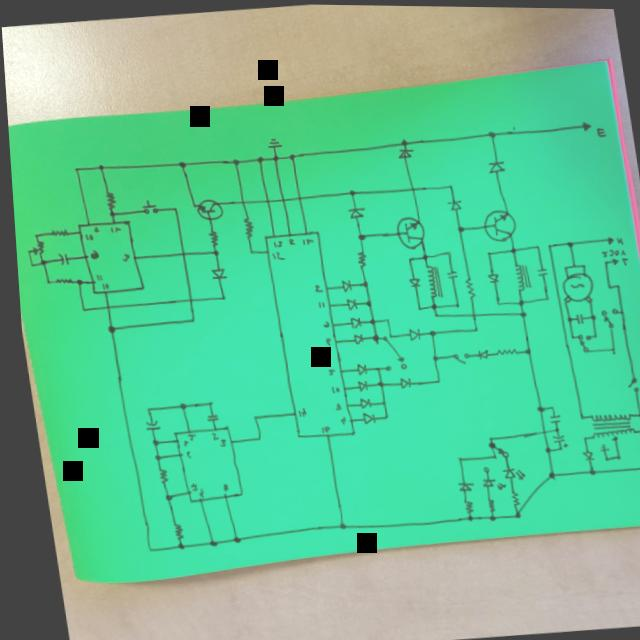capacitor: (137, 417, 155, 432), (545, 432, 563, 447), (51, 251, 66, 266), (542, 411, 556, 424), (441, 268, 455, 280), (198, 413, 216, 422), (531, 265, 544, 277), (569, 310, 581, 323)
crossover: (181, 295, 190, 305), (174, 249, 184, 258), (98, 303, 108, 312), (235, 198, 245, 207), (406, 185, 413, 193), (292, 194, 300, 201), (465, 311, 472, 318), (276, 196, 283, 203), (261, 197, 268, 204), (535, 428, 541, 434)
diode: (495, 463, 521, 482), (482, 157, 506, 175), (473, 475, 499, 490), (341, 204, 363, 220), (205, 266, 224, 281), (449, 477, 468, 492), (401, 326, 417, 341), (339, 296, 355, 311), (482, 269, 497, 285), (393, 146, 412, 158), (355, 410, 370, 425), (403, 274, 418, 289), (471, 346, 486, 361), (443, 198, 460, 211), (391, 374, 405, 389), (335, 277, 349, 292), (353, 395, 369, 408), (349, 361, 362, 376), (350, 378, 363, 392), (343, 315, 357, 328), (347, 331, 360, 344), (575, 448, 588, 459), (632, 443, 640, 456)
ground: (262, 135, 281, 149), (592, 441, 603, 451)
inductor: (420, 263, 439, 298), (507, 262, 529, 291)
junction: (155, 492, 167, 503), (351, 230, 363, 241), (223, 534, 234, 545), (101, 323, 112, 334), (484, 128, 495, 139), (146, 453, 157, 463), (329, 521, 340, 531), (479, 511, 490, 521), (200, 537, 210, 548), (171, 401, 182, 411), (344, 187, 354, 197), (452, 223, 462, 233), (174, 159, 184, 169), (93, 162, 103, 172), (366, 332, 376, 342), (168, 541, 179, 550), (69, 277, 81, 285), (561, 238, 571, 247), (513, 308, 523, 317), (539, 469, 549, 478), (252, 155, 262, 164), (144, 438, 154, 447), (512, 296, 521, 306), (363, 316, 372, 326), (207, 247, 217, 256), (581, 466, 590, 475), (229, 157, 238, 166), (137, 545, 146, 554), (505, 510, 514, 519), (268, 153, 277, 162), (423, 327, 431, 337), (199, 399, 209, 407), (138, 405, 148, 413), (519, 346, 527, 355), (184, 315, 192, 324), (70, 165, 79, 173), (441, 248, 449, 257), (541, 241, 550, 249), (285, 152, 294, 160), (360, 298, 368, 307), (506, 245, 514, 253), (75, 306, 83, 314), (481, 248, 489, 256), (371, 379, 379, 387), (444, 182, 452, 189), (402, 256, 410, 263), (376, 413, 384, 420), (531, 404, 538, 412), (411, 304, 419, 311), (168, 205, 176, 212), (604, 345, 612, 352), (571, 412, 579, 419), (530, 242, 538, 249), (449, 300, 457, 307), (215, 294, 223, 301), (426, 303, 434, 310), (417, 252, 425, 259), (35, 260, 43, 267), (187, 201, 195, 208), (374, 399, 382, 406), (20, 248, 28, 255), (429, 376, 436, 383), (426, 354, 433, 361), (631, 410, 638, 417), (450, 455, 457, 462), (245, 413, 252, 420), (633, 427, 640, 434), (40, 279, 47, 286), (244, 248, 251, 255), (249, 434, 256, 441), (539, 294, 546, 301), (468, 325, 475, 332), (428, 310, 435, 317), (490, 298, 497, 305), (610, 281, 617, 288), (601, 281, 608, 288), (382, 331, 389, 338), (538, 445, 545, 452), (459, 514, 466, 521), (398, 139, 405, 146), (357, 280, 364, 287), (24, 262, 31, 269), (369, 365, 376, 372), (105, 211, 112, 218), (28, 234, 36, 240), (610, 453, 615, 459), (576, 434, 581, 440), (380, 317, 386, 322), (548, 426, 553, 431), (586, 313, 591, 318), (597, 455, 601, 460), (543, 404, 548, 408), (615, 308, 619, 313), (482, 435, 486, 439), (552, 445, 556, 449), (563, 316, 567, 320), (565, 334, 569, 338), (588, 332, 592, 336), (639, 463, 640, 469)
resistor: (487, 344, 513, 357), (26, 239, 45, 256), (44, 225, 66, 239), (350, 248, 365, 268), (459, 276, 472, 299), (238, 216, 252, 237), (100, 189, 114, 209), (48, 274, 69, 286), (164, 522, 177, 539), (150, 467, 162, 484), (502, 489, 514, 506), (204, 230, 216, 245), (478, 496, 489, 512), (455, 498, 467, 512)
switch: (374, 331, 403, 373), (471, 439, 505, 473), (595, 306, 617, 328), (572, 331, 589, 353), (136, 197, 156, 215), (446, 349, 467, 365), (620, 374, 637, 393)
terminal: (579, 119, 591, 131), (603, 234, 611, 243), (608, 255, 615, 263)
text: (596, 246, 624, 258), (268, 248, 282, 261), (297, 235, 311, 246), (85, 249, 97, 261), (308, 282, 320, 294), (105, 225, 118, 236), (310, 298, 321, 310), (319, 366, 331, 377), (314, 423, 325, 435), (291, 407, 302, 418), (213, 482, 224, 493), (95, 279, 106, 290), (91, 273, 102, 284), (80, 231, 91, 242), (594, 125, 604, 137), (324, 384, 335, 394), (116, 252, 127, 262), (318, 335, 328, 346), (616, 254, 626, 265), (316, 319, 327, 329), (268, 239, 280, 248), (177, 450, 187, 460), (327, 401, 337, 411), (203, 431, 213, 441), (283, 238, 293, 247), (183, 482, 192, 492), (190, 487, 198, 498), (211, 439, 222, 447), (612, 234, 621, 243), (334, 416, 341, 424), (182, 433, 190, 440), (176, 439, 183, 446), (89, 226, 96, 233)
transformer: (582, 406, 631, 443)
transistor: (478, 207, 516, 242), (389, 214, 423, 249), (192, 197, 221, 222)
